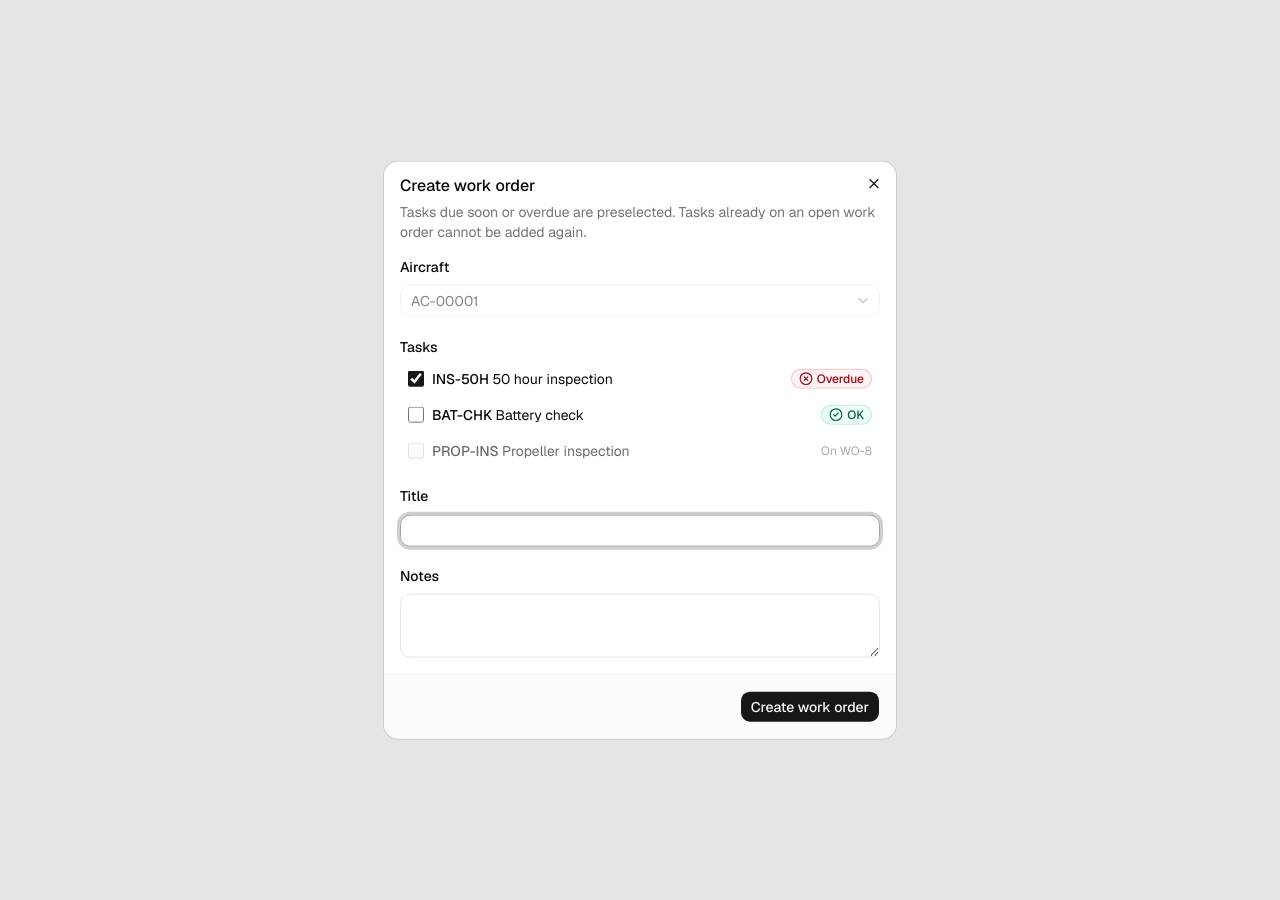
Scenario: CreateWorkOrderDialog › shows duplicate_open_task inline and refreshes the open work orders
The width and height of the screenshot is (1280, 900).
Check: the checkbox labelled "INS-50H 50 hour inspection Overdue" is checked, box [408, 371, 424, 387]
Type "Weekly check" into the field labelled "Title" at (640, 530), box [400, 514, 880, 546]
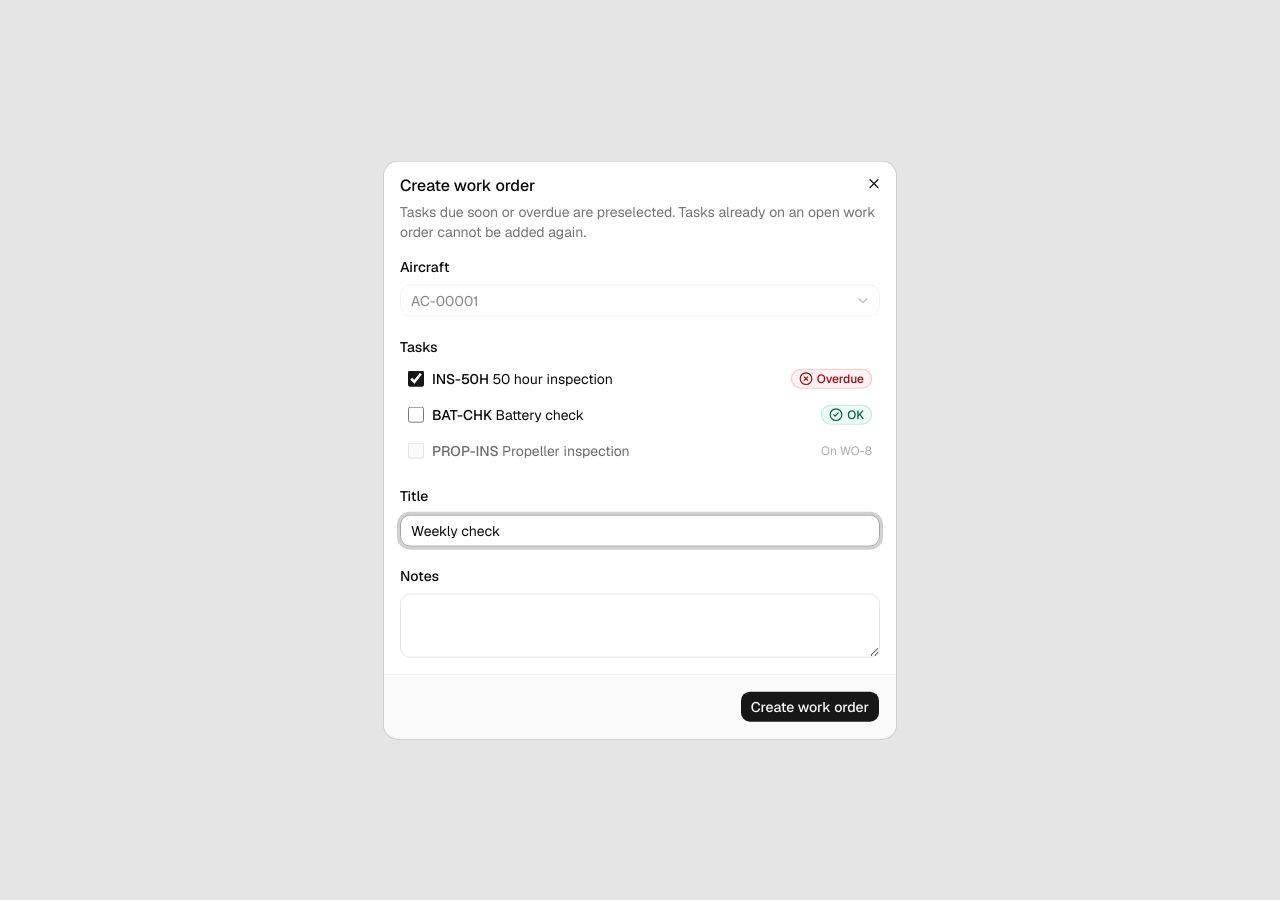
Click the button "Create work order" at (810, 706), box [740, 690, 880, 722]
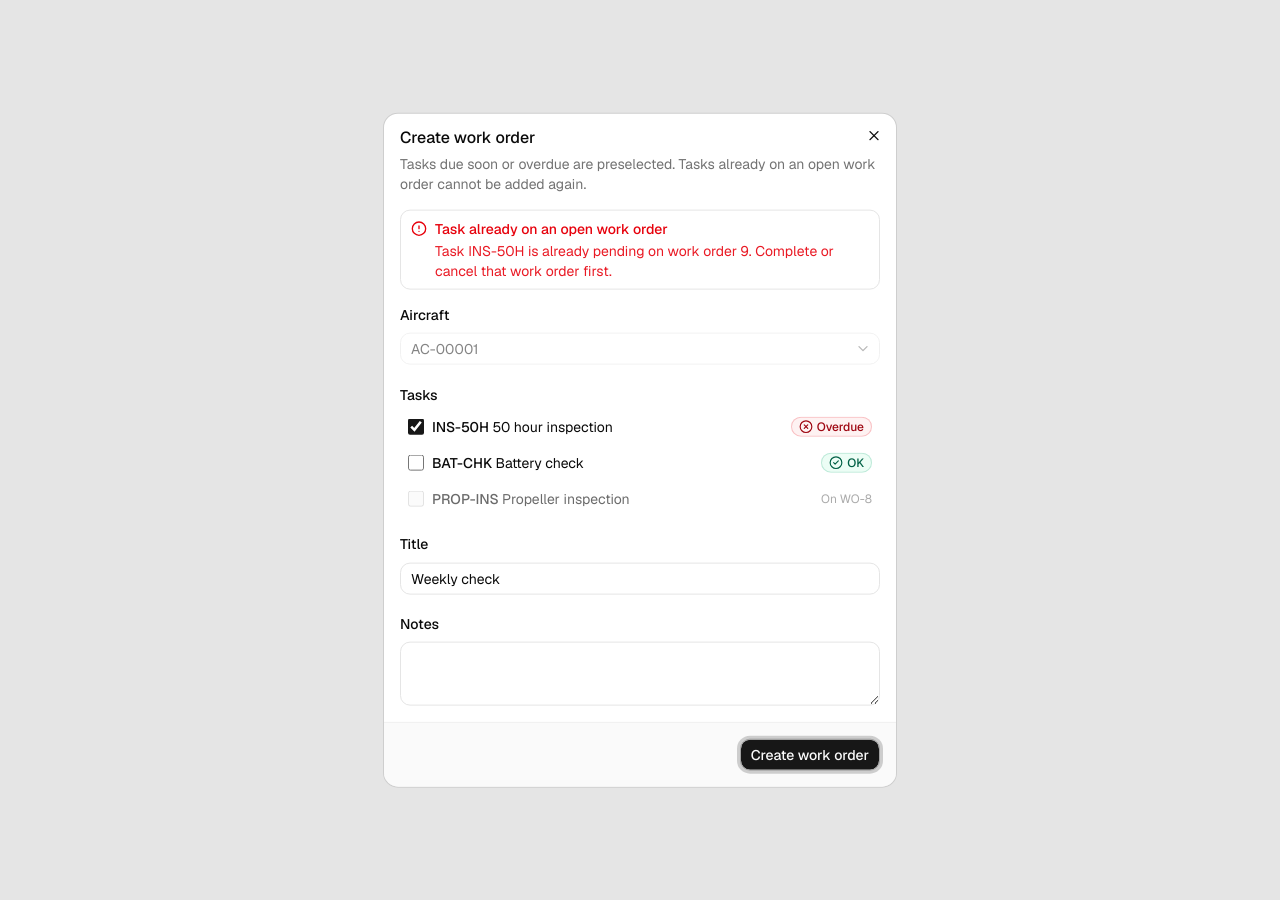
Check: the message shows "Task already on an open work order", box [435, 220, 668, 238]
Check: the message shows "Task INS-50H is already pending on work order 9.", box [435, 242, 834, 280]
